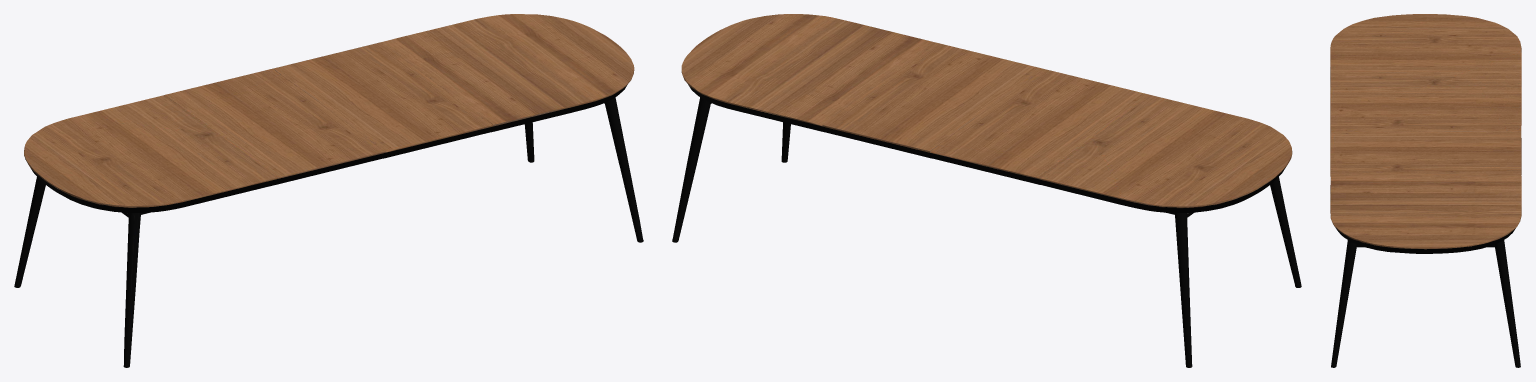
File: tjarkil_sto_rozkadany_70630454.glb
3 views of the same model, side by side, from view 1: azimuth 30°, elevation 25°; view 2: azimuth 150°, elevation 25°; view 3: azimuth 270°, elevation 25° (orthographic). The views are drawn at different scales.
Parts seen in each view (by area): view 1: tjarkil_sto_rozkadany_70630454; view 2: tjarkil_sto_rozkadany_70630454; view 3: tjarkil_sto_rozkadany_70630454.
Boxes of the visible parts, <box> form: tjarkil_sto_rozkadany_70630454: <box>14,14,643,367</box>; tjarkil_sto_rozkadany_70630454: <box>672,14,1301,367</box>; tjarkil_sto_rozkadany_70630454: <box>1330,14,1521,367</box>.
Bounding box in the file's own units: 2.9 × 0.752 × 1.
1 material, 1 textured.
